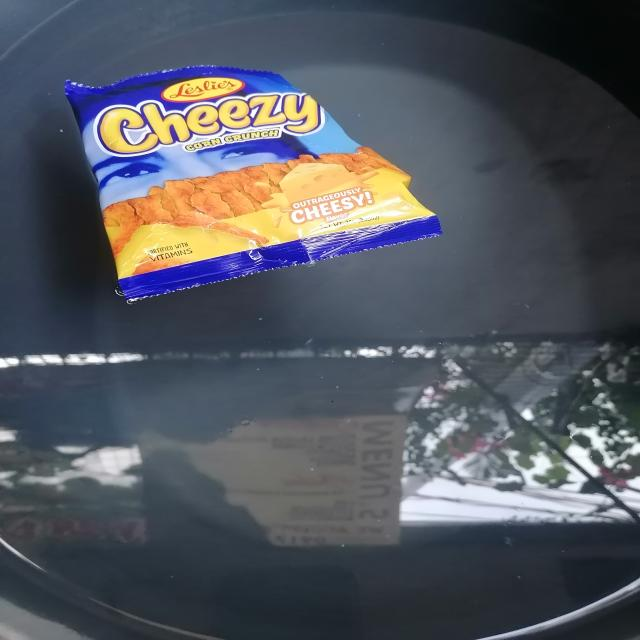Plastic Wrapper: (34, 50, 469, 326)
